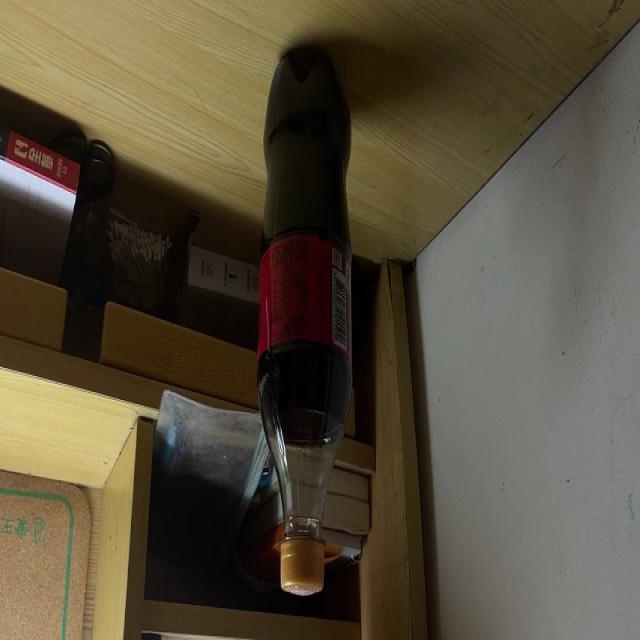Coca-Cola: (257, 53, 353, 595)
